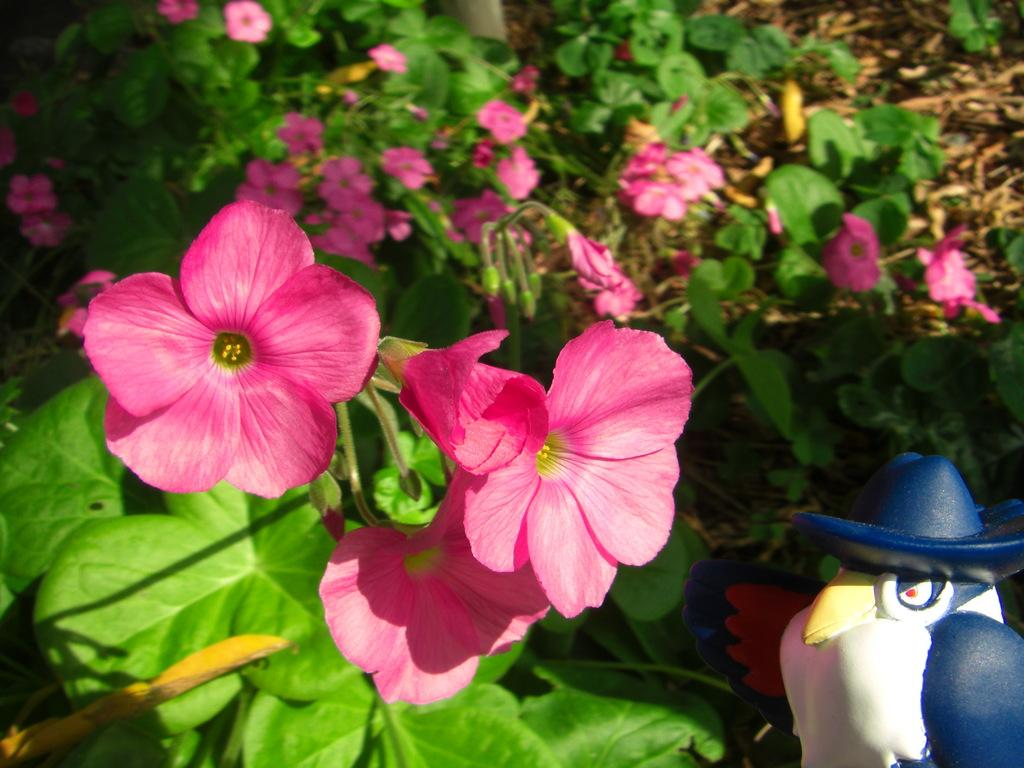Hat: (798, 453, 1023, 589)
